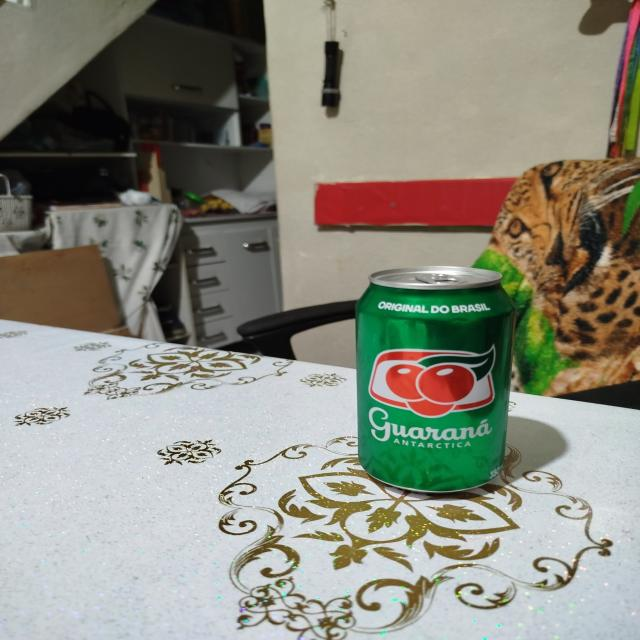Guarana: (355, 265, 518, 494)
